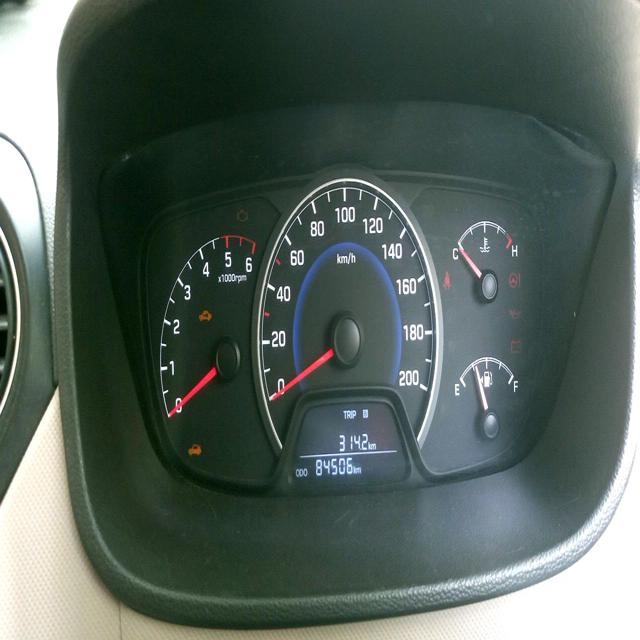odometer: (315, 454, 354, 479)
